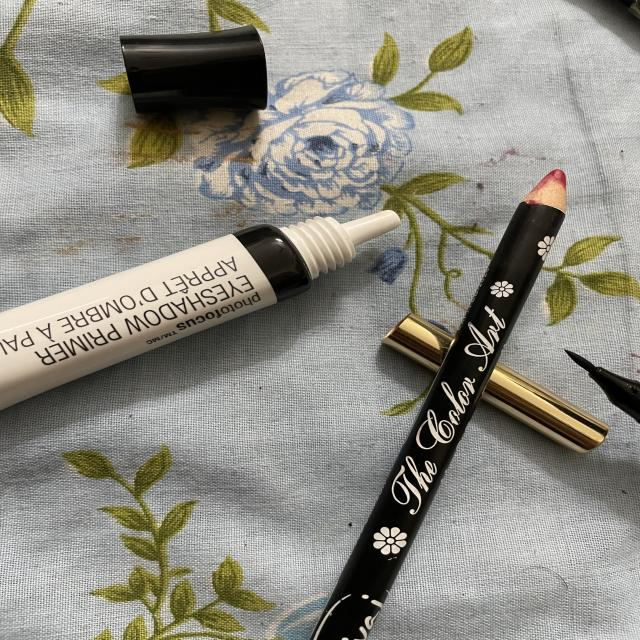eye liner: (555, 322, 640, 460)
lip liner: (458, 158, 598, 322)
primer: (0, 180, 418, 420)
